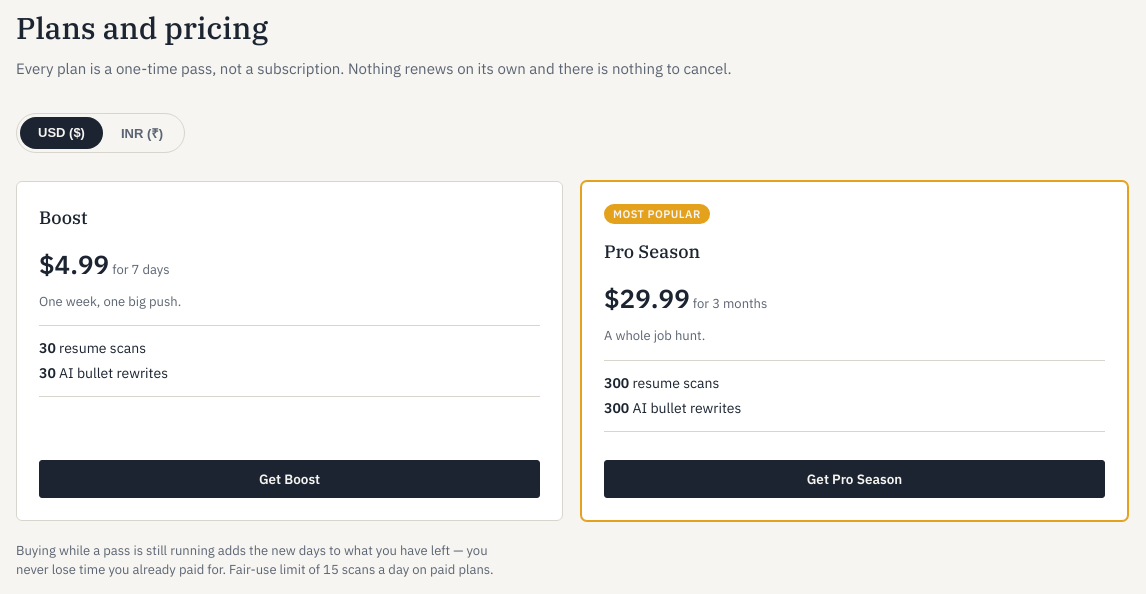
Test: PricingPage currency › applies the currency to every pass length
Expected: the text "$4.99 for 7 days" is shown, left=39, top=246, right=170, bottom=280
Click the button "INR (₹)" at (142, 132), box left=103, top=116, right=181, bottom=148
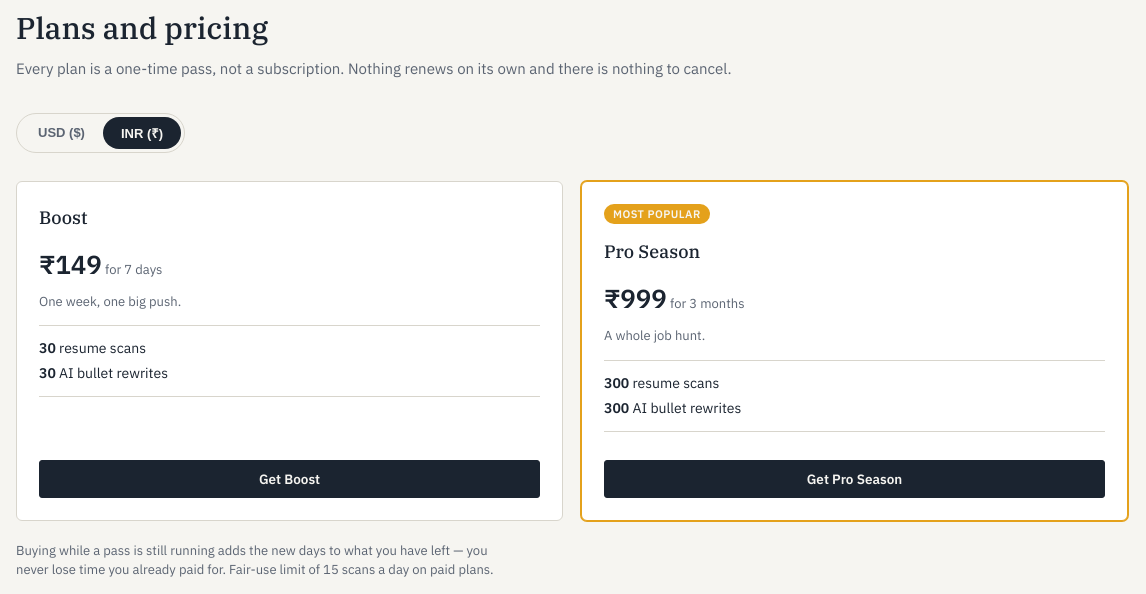
Now the text "₹149 for 7 days" is shown, box left=39, top=246, right=162, bottom=280
Now the text "₹999 for 3 months" is shown, box left=604, top=281, right=744, bottom=315
